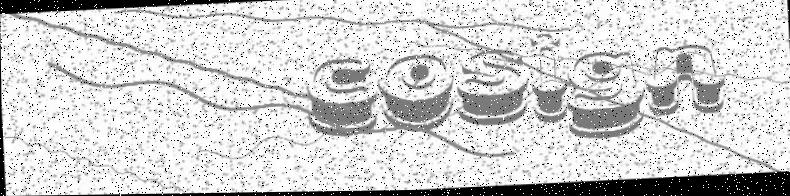c: (304, 57, 379, 138)
g: (565, 51, 647, 142)
i: (527, 32, 569, 126)
n: (644, 44, 726, 119)
o: (376, 53, 456, 135)
s: (455, 48, 531, 129)
